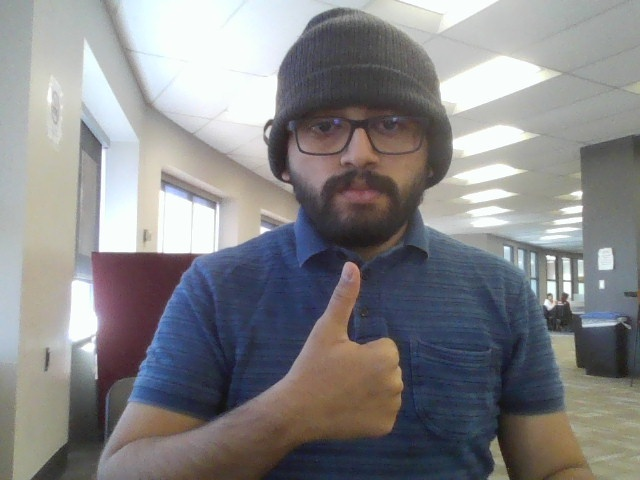start: (285, 254, 416, 450)
